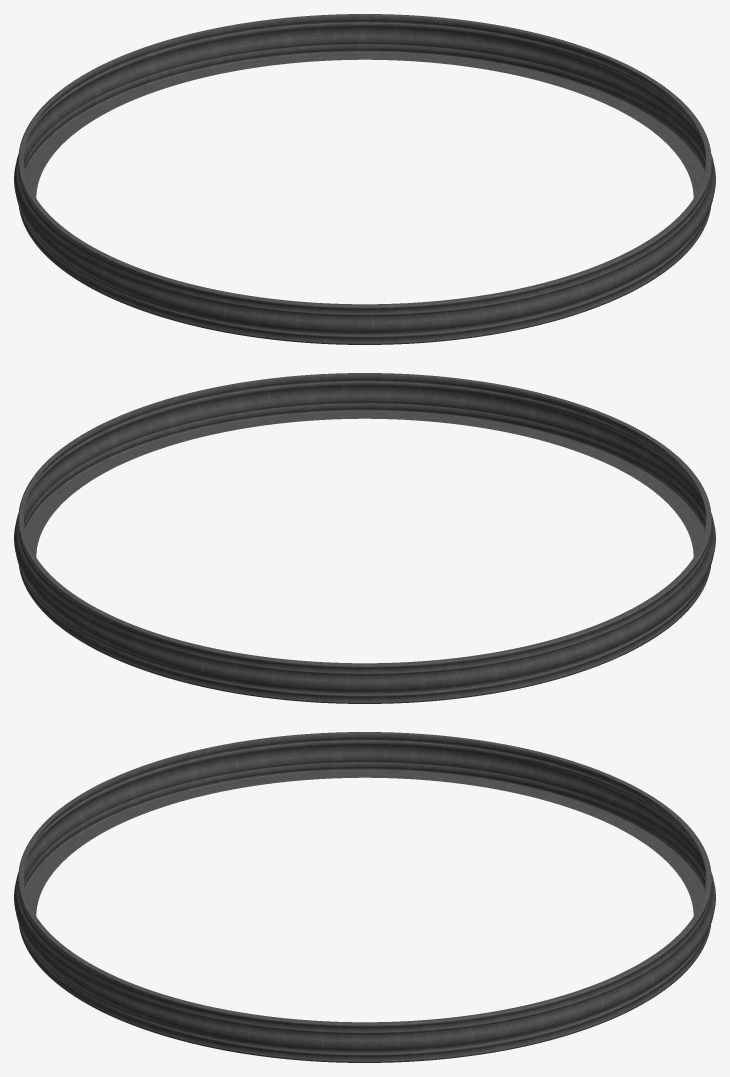
The model's file is ring.fbx.
The picture shows the model from 3 angles, top to bottom: view 1: azimuth 30°, elevation 25°; view 2: azimuth 150°, elevation 25°; view 3: azimuth 270°, elevation 25°; orthographic projection.
Parts seen in each view (by area): view 1: Object062; view 2: Object062; view 3: Object062.
Boxes of the visible parts, x1=… form: Object062: x1=14, y1=14, x2=715, y2=344; Object062: x1=14, y1=373, x2=715, y2=703; Object062: x1=14, y1=732, x2=715, y2=1062.
Bounding box in the file's own units: 2647 × 160 × 2648.
